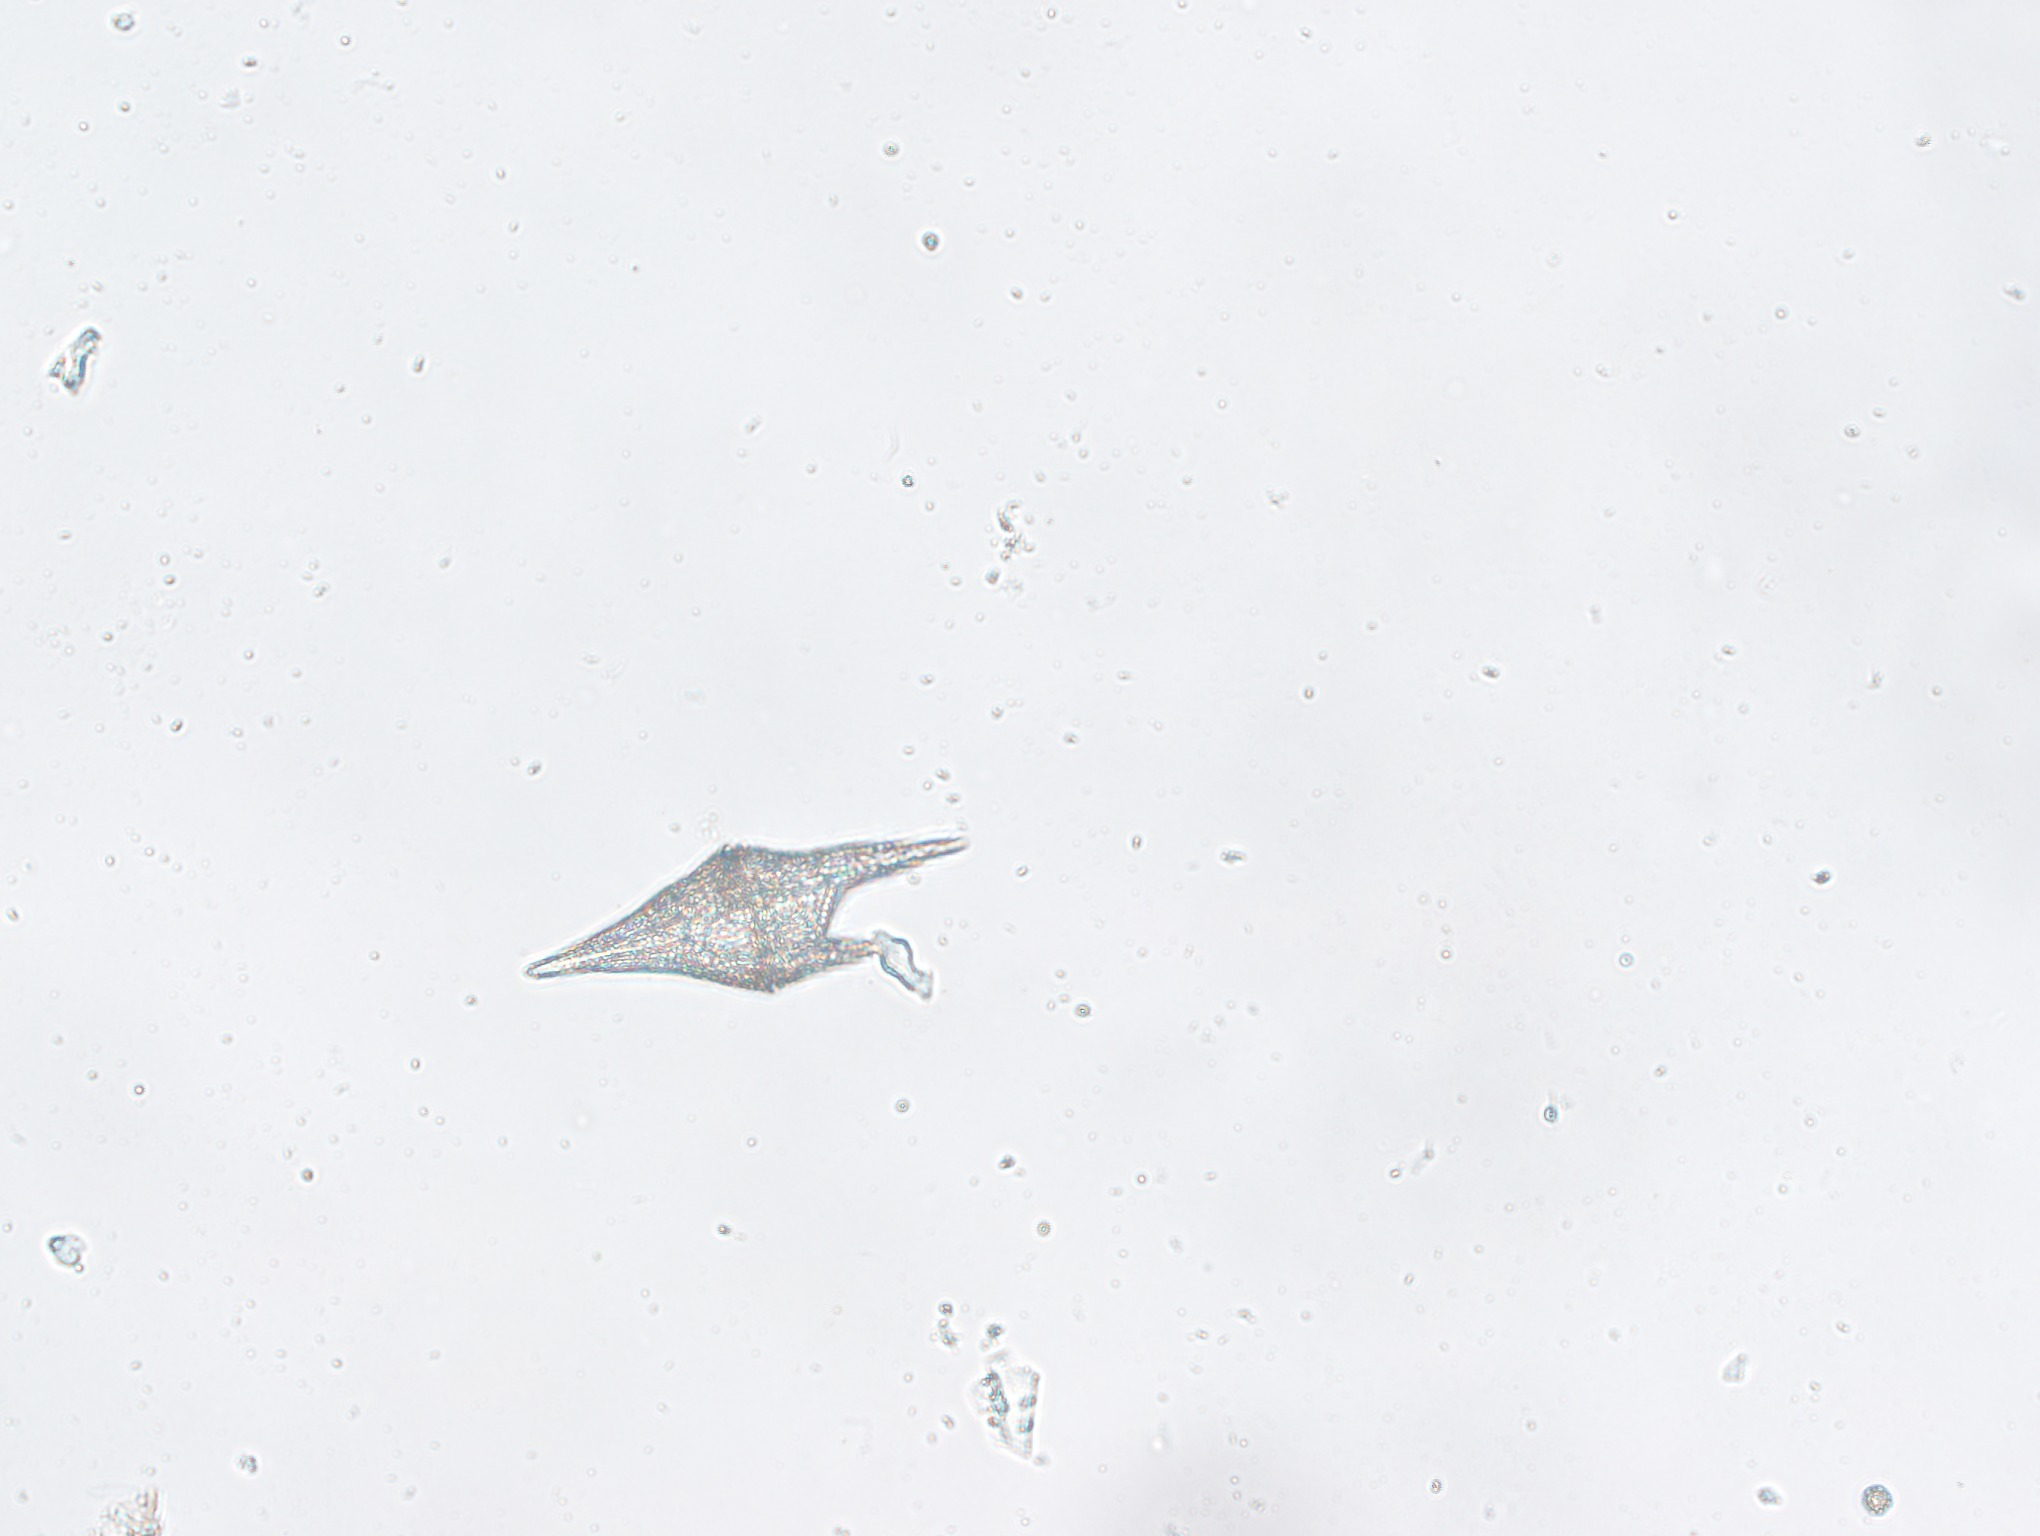ceratium furca: (526, 823, 972, 1028)
